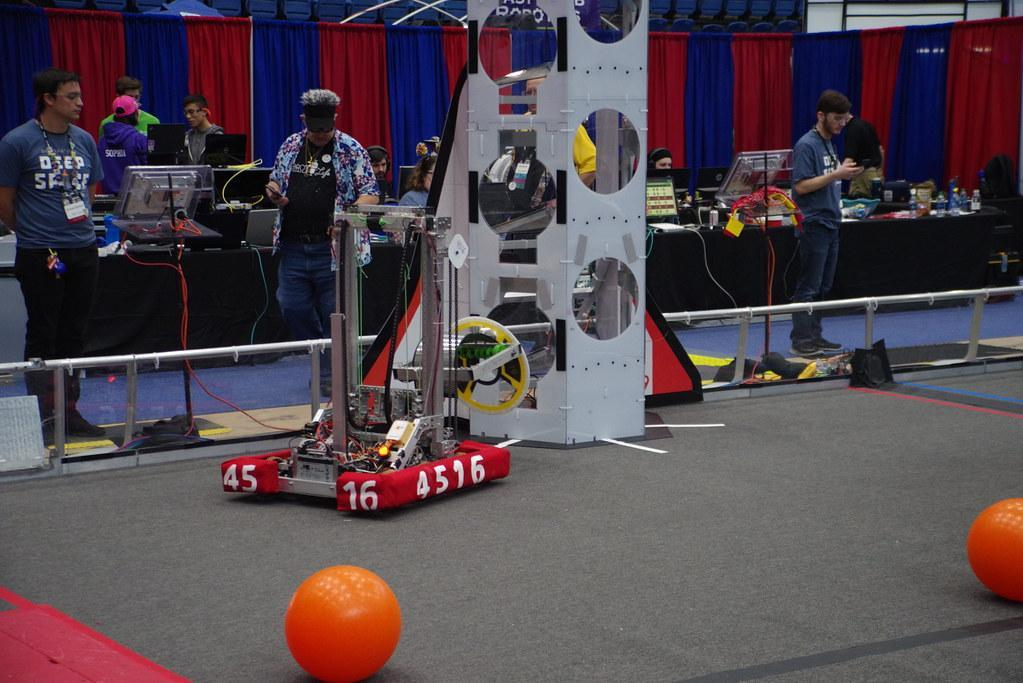robot: (213, 192, 519, 520)
